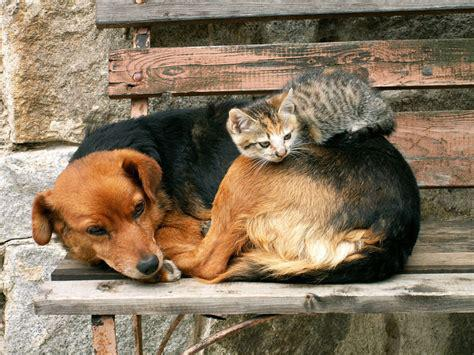cat: (226, 73, 396, 162)
dog: (32, 103, 420, 283)
